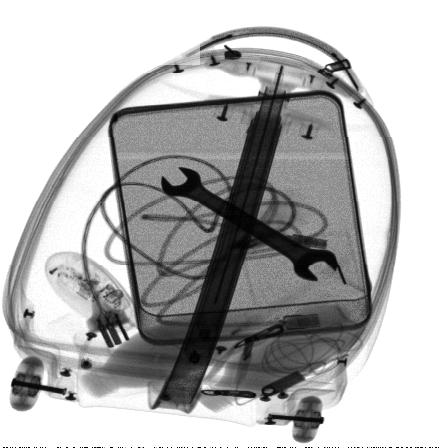Wrench: (161, 167, 338, 282)
